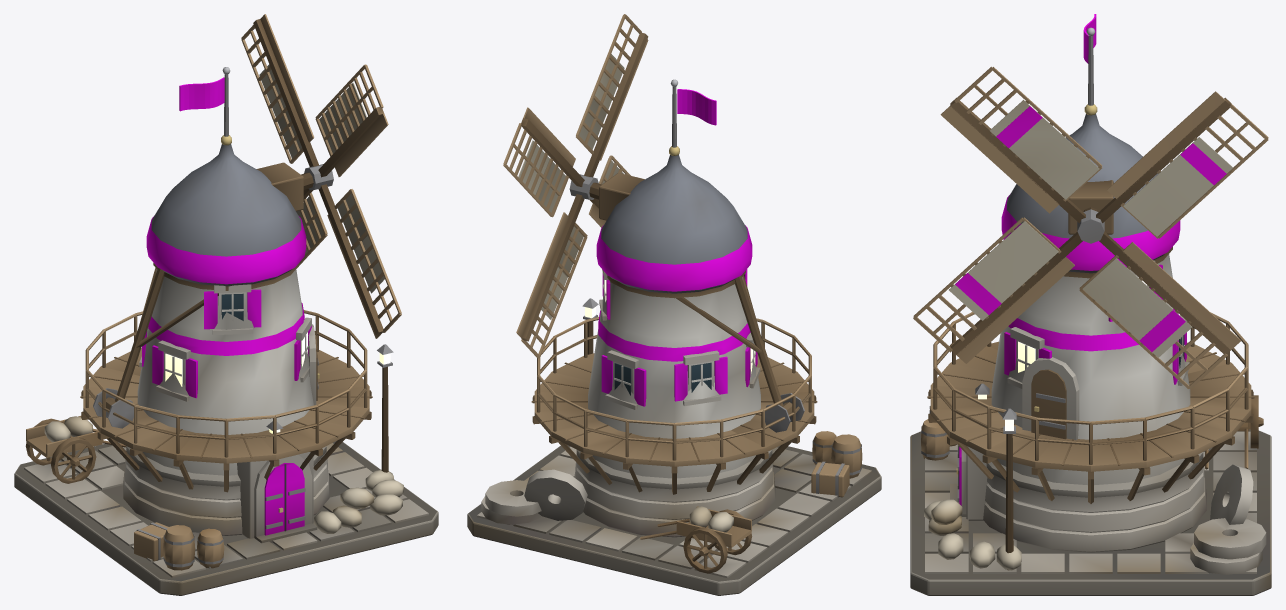
The model's file is power_plant_gunpowder.glb.
3 views of the same model, side by side, from view 1: azimuth 30°, elevation 25°; view 2: azimuth 150°, elevation 25°; view 3: azimuth 270°, elevation 25° (orthographic). The views are drawn at different scales.
Visible parts, largest first — view 1: Body; view 2: Body; view 3: Body.
Boxes of the visible parts, bbox=[...] form: Body: bbox=[14, 14, 438, 595]; Body: bbox=[467, 14, 881, 595]; Body: bbox=[910, 14, 1271, 595].
Bounding box in the file's own units: 4 × 6.16 × 4.
Materials: 1 (1 with a texture image).
